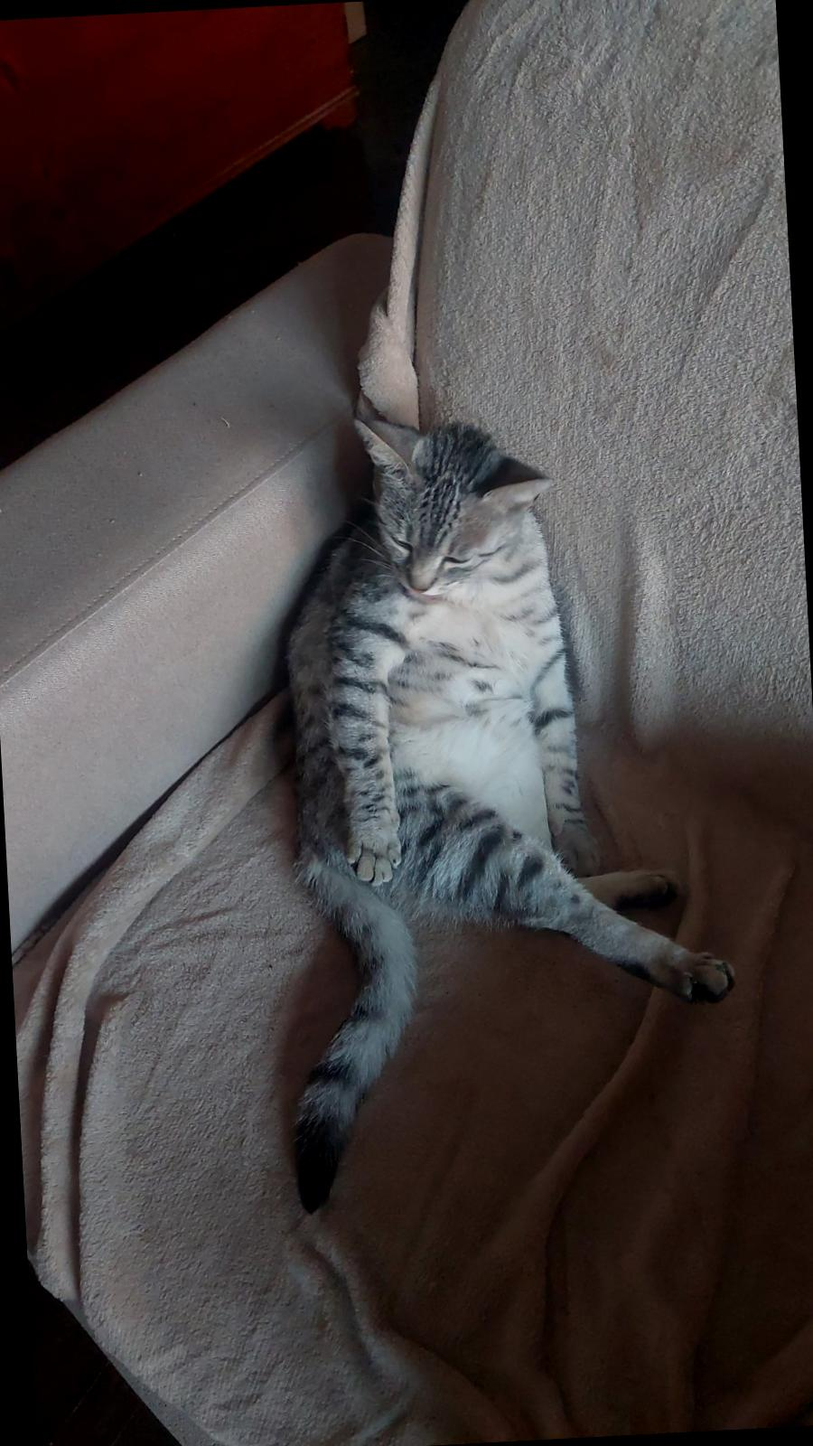macka: (258, 399, 752, 1212)
